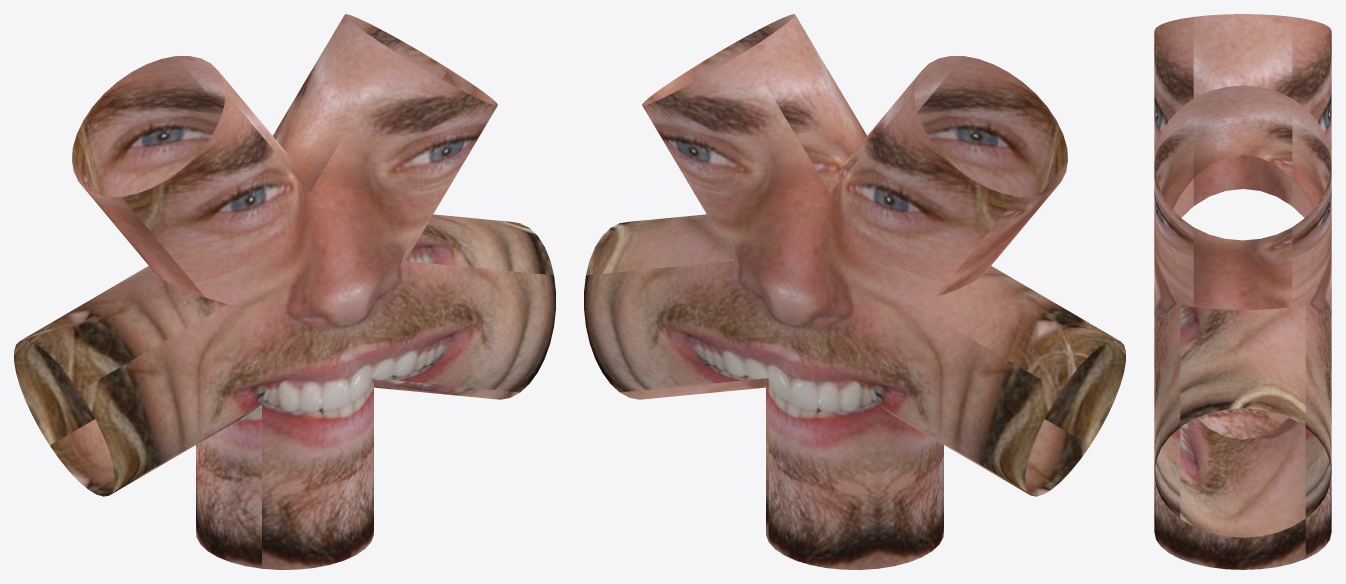
The model's file is kroeger-n-joint.glb.
The picture shows the model from 3 angles, left to right: view 1: azimuth 30°, elevation 25°; view 2: azimuth 150°, elevation 25°; view 3: azimuth 270°, elevation 25°; orthographic projection.
Parts seen in each view (by area): view 1: N Joint; view 2: N Joint; view 3: N Joint.
Boxes of the visible parts, bbox=[...] form: N Joint: bbox=[14, 14, 555, 569]; N Joint: bbox=[584, 14, 1125, 569]; N Joint: bbox=[1154, 14, 1331, 569].
Bounding box in the file's own units: 6.32 × 6.01 × 2.
1 material, 1 textured.
